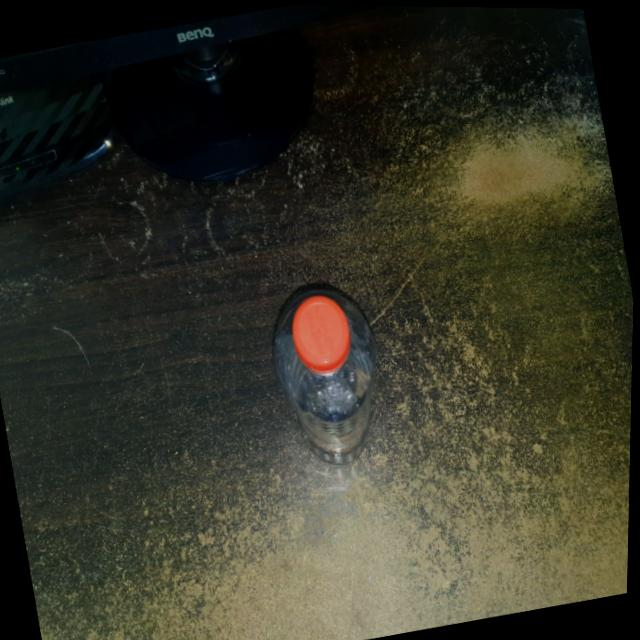anorganik: (242, 270, 413, 470)
